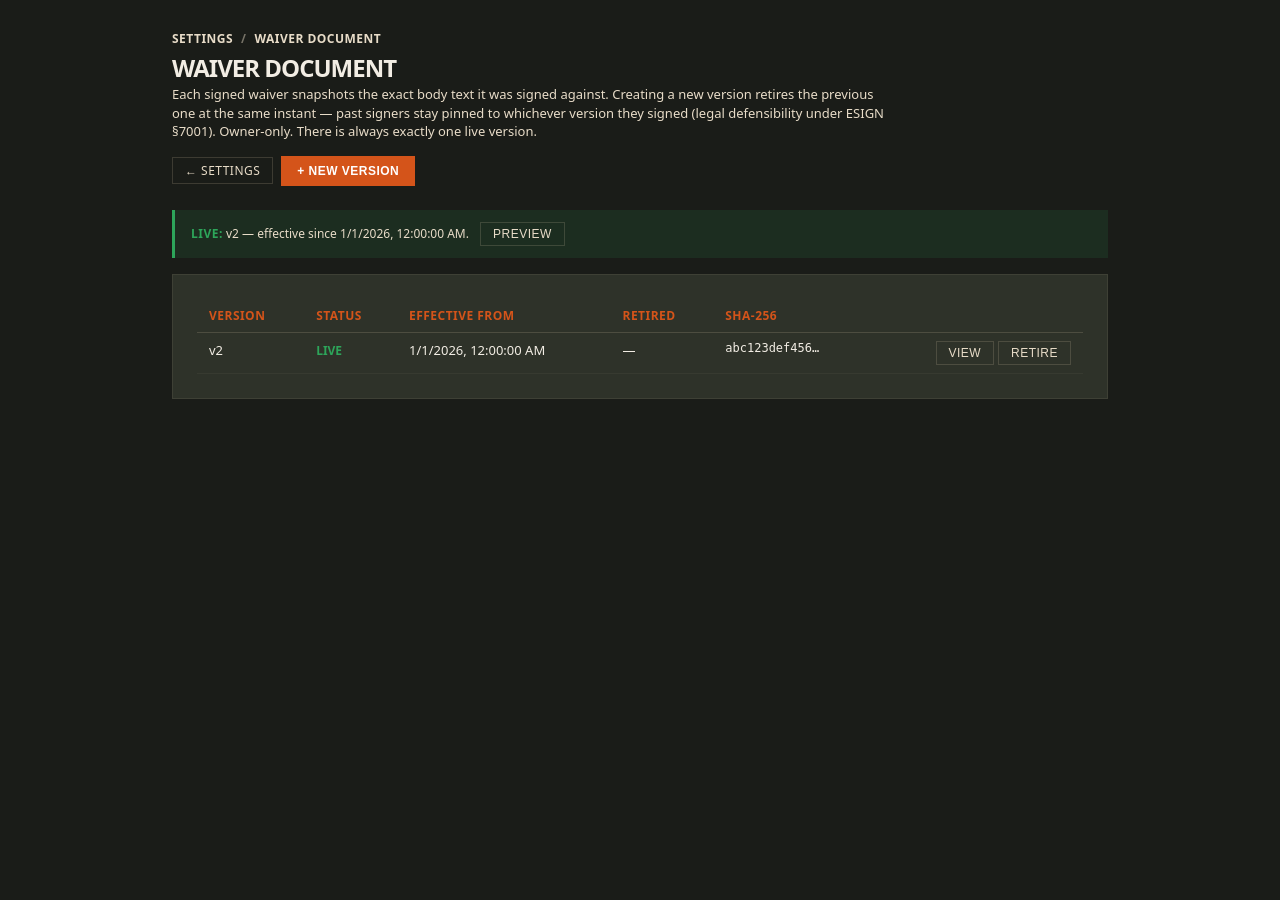
it: AdminWaivers › opens the New Waiver Version modal from + New version
Click the button "+ New version".
click(348, 171)  # box [281,156,415,186]
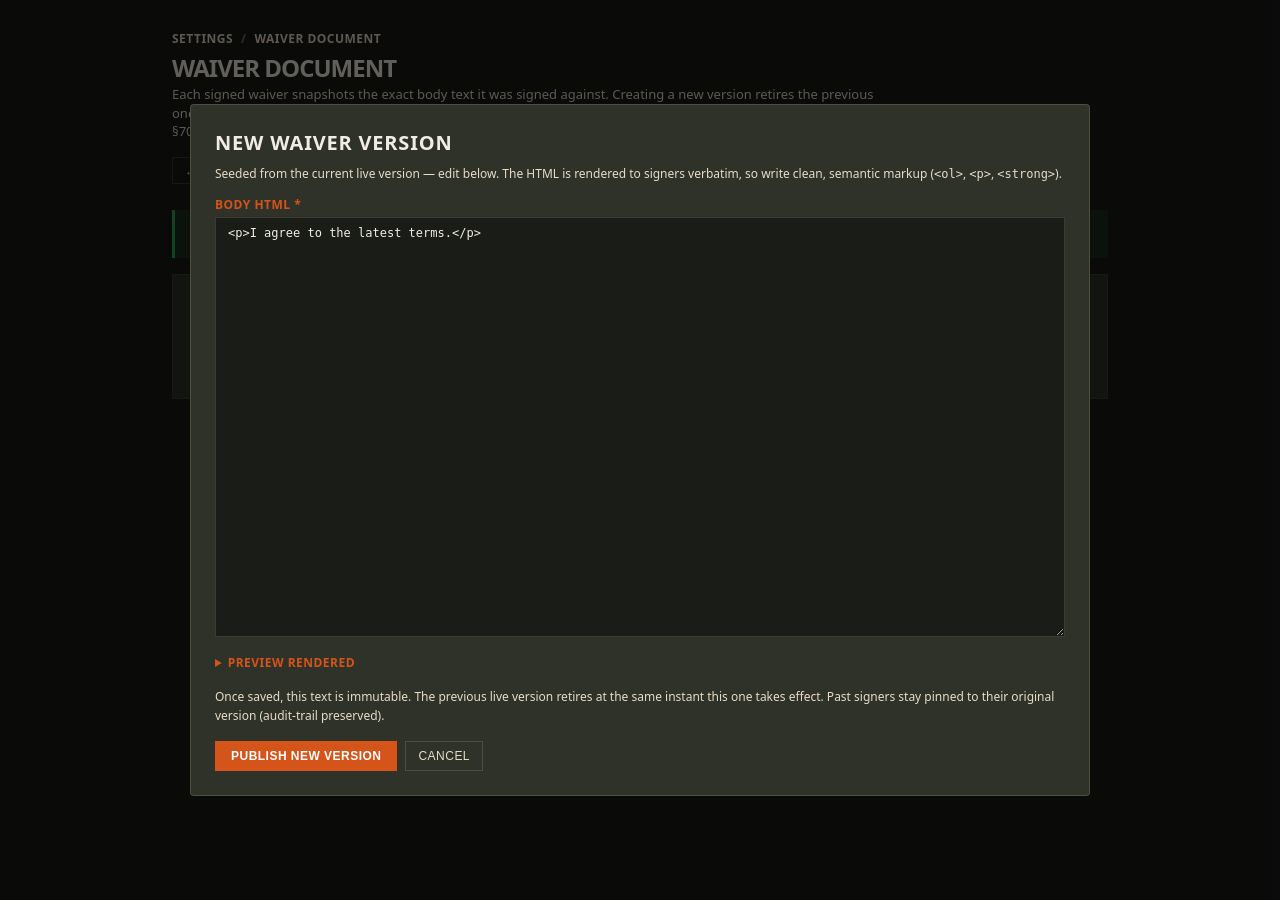
Expected: the heading "New Waiver Version" is shown, [215,129,452,156]
